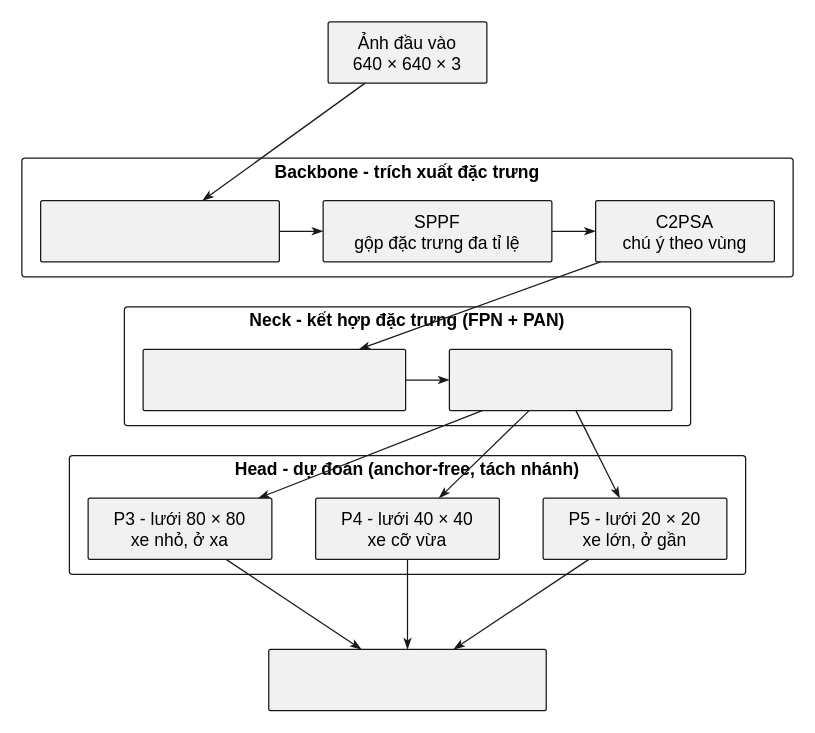
Image size: 815x733. Some labels were removed from this diagram. Here are the shapes that lost their labels. From the top down, the centre of each, then its label:
At point (159, 230): "Conv + C3k2 (độ phân giải giảm dần)".
At point (274, 379): "Đường xuống (FPN) Upsample + Concat + C3k2".
At point (560, 379): "Đường lên (PAN) Conv + Concat + C3k2".
At point (407, 679): "Khung bao + lớp + độ tin cậy → NMS loại khung trùng".
